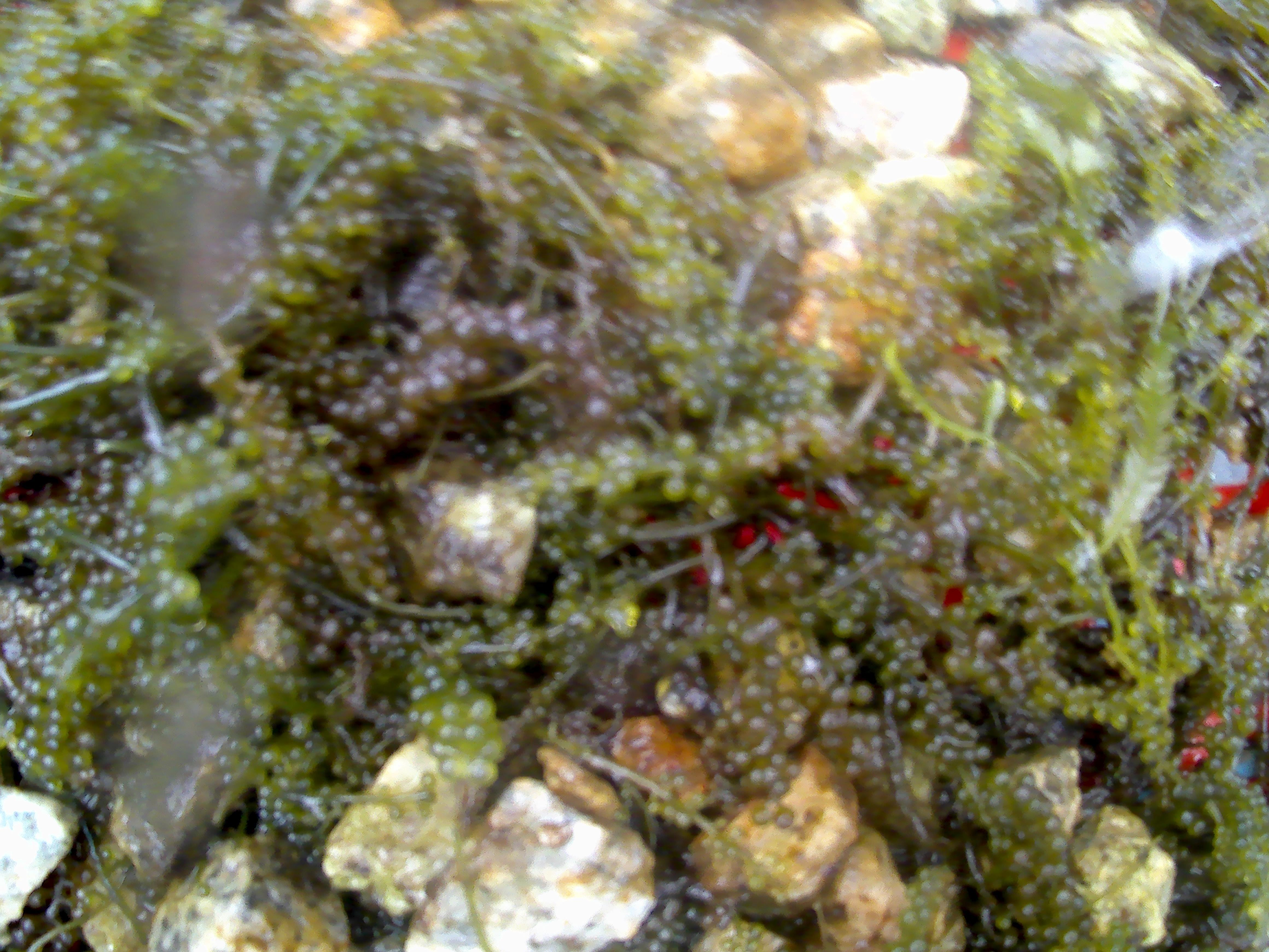Darkening: (743, 683, 766, 707), (434, 373, 454, 399), (582, 365, 604, 388), (318, 617, 341, 638), (365, 443, 386, 466), (819, 711, 842, 732), (589, 402, 613, 422), (827, 686, 850, 706), (449, 345, 467, 369), (772, 807, 792, 828), (747, 716, 769, 735), (341, 365, 362, 384), (406, 382, 425, 402), (338, 495, 356, 516), (852, 686, 873, 704), (47, 599, 64, 621), (486, 316, 505, 335), (804, 694, 823, 713), (371, 395, 388, 416), (513, 327, 531, 346), (354, 511, 372, 530), (731, 709, 749, 728), (456, 323, 474, 341), (540, 339, 560, 355), (471, 356, 486, 377), (384, 362, 402, 379), (303, 594, 320, 612), (406, 335, 422, 354), (70, 477, 89, 493), (39, 610, 55, 629), (99, 459, 117, 475), (509, 302, 525, 319), (100, 484, 116, 501), (722, 763, 738, 780), (749, 768, 765, 785), (333, 529, 347, 548), (402, 412, 416, 430), (543, 318, 557, 336), (33, 654, 46, 673), (295, 385, 310, 401), (72, 454, 88, 469), (351, 407, 368, 421), (371, 373, 385, 390), (383, 423, 398, 438), (368, 528, 386, 540), (433, 352, 446, 368), (317, 375, 333, 388), (977, 747, 991, 761), (897, 698, 910, 713), (432, 316, 444, 332), (453, 303, 465, 319), (87, 516, 102, 528), (334, 400, 345, 416), (925, 702, 938, 715)
Harvestable: (697, 455, 727, 485), (660, 474, 691, 503), (171, 572, 200, 601), (91, 188, 119, 217), (152, 590, 181, 618), (107, 629, 134, 656), (657, 359, 684, 385), (463, 722, 488, 749), (672, 432, 698, 457), (441, 700, 466, 725), (97, 130, 121, 155), (470, 697, 495, 721), (149, 496, 173, 520), (690, 483, 714, 506), (686, 396, 710, 419), (441, 722, 464, 746), (65, 612, 88, 636), (185, 431, 207, 454), (898, 908, 920, 931), (224, 661, 246, 684), (54, 192, 76, 215), (421, 711, 443, 733), (366, 153, 389, 174), (807, 387, 828, 408), (243, 653, 264, 673), (150, 631, 171, 651), (205, 622, 225, 642), (164, 396, 184, 416), (832, 619, 855, 636), (53, 105, 73, 124), (657, 291, 676, 311), (639, 282, 658, 302), (633, 257, 652, 277), (32, 679, 51, 698), (30, 703, 49, 722), (25, 723, 44, 742), (127, 477, 145, 497), (115, 366, 134, 384), (1110, 710, 1127, 730), (166, 444, 184, 462), (207, 422, 225, 440), (332, 177, 350, 194), (1063, 701, 1079, 720), (47, 723, 66, 739), (194, 489, 211, 506), (287, 148, 305, 164), (42, 120, 60, 136), (191, 137, 209, 153), (14, 148, 30, 165), (197, 415, 214, 431), (693, 285, 709, 302), (430, 676, 447, 691), (259, 782, 275, 797), (1092, 707, 1107, 723), (108, 356, 123, 371), (114, 527, 129, 542), (1055, 890, 1070, 904), (887, 660, 901, 674), (273, 799, 288, 810), (259, 798, 270, 809)
